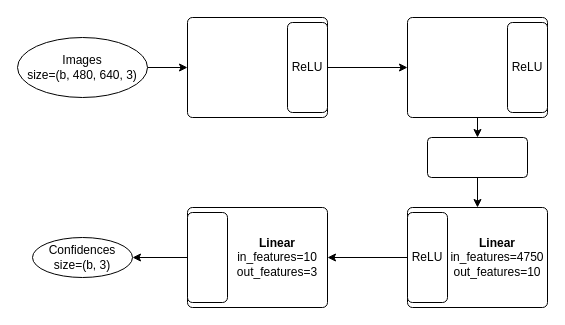
This 565x325 diagram has some shape labels left out. Each missing label, with the box of its shape:
Conv2d in_channel=10 out_channel=10 kernel_size=(5, 5) stride=(5, 5): (406, 16, 508, 118)
Conv2d in_channel=3 out_channel=10 kernel_size=(5, 5) stride=(5, 5): (186, 16, 288, 118)
Flatten: (426, 136, 528, 178)
Softmax: (186, 212, 228, 302)
